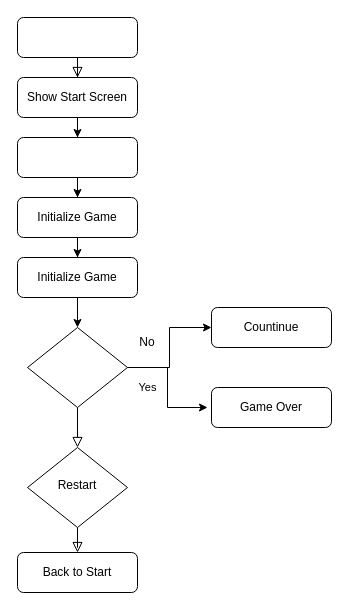
The diagram is 349 pixels wide and 610 high, and some of its shapes have lost their labels. Each missing label, with the centre of its shape:
Collision: point 77,367
Start: point 77,37
Start Button Click: point 77,157
